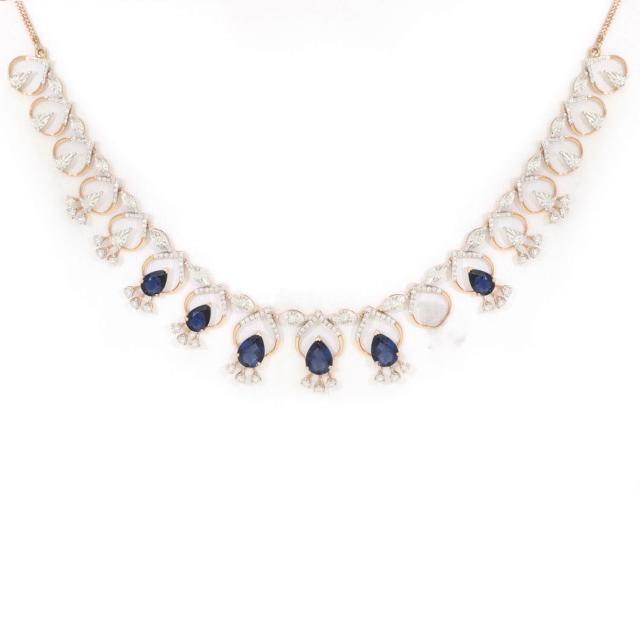missing gem: (424, 302, 456, 336)
